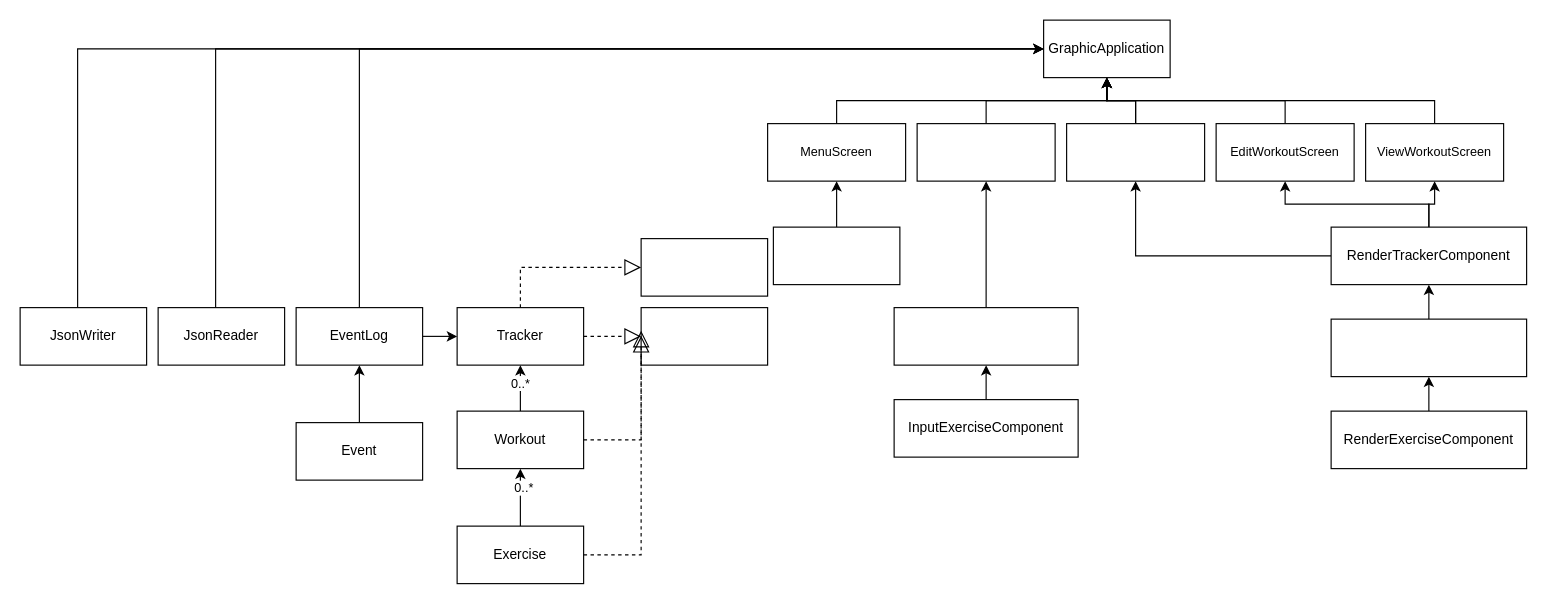
The diagram is 1547 pixels wide and 604 high, and some of its shapes have lost their labels. The shapes that lost their labels are listed below. From the top down, each one's centre as x and y in pixels, then its label:
point (985, 151): AddWorkoutScreen
point (1135, 151): RemoveWorkoutScreen
point (704, 266): <<interface>> Metrics
point (836, 255): TitleComponent
point (704, 335): <<interface>> Writable
point (985, 335): InputWorkoutComponent
point (1428, 347): RenderWorkoutComponent
